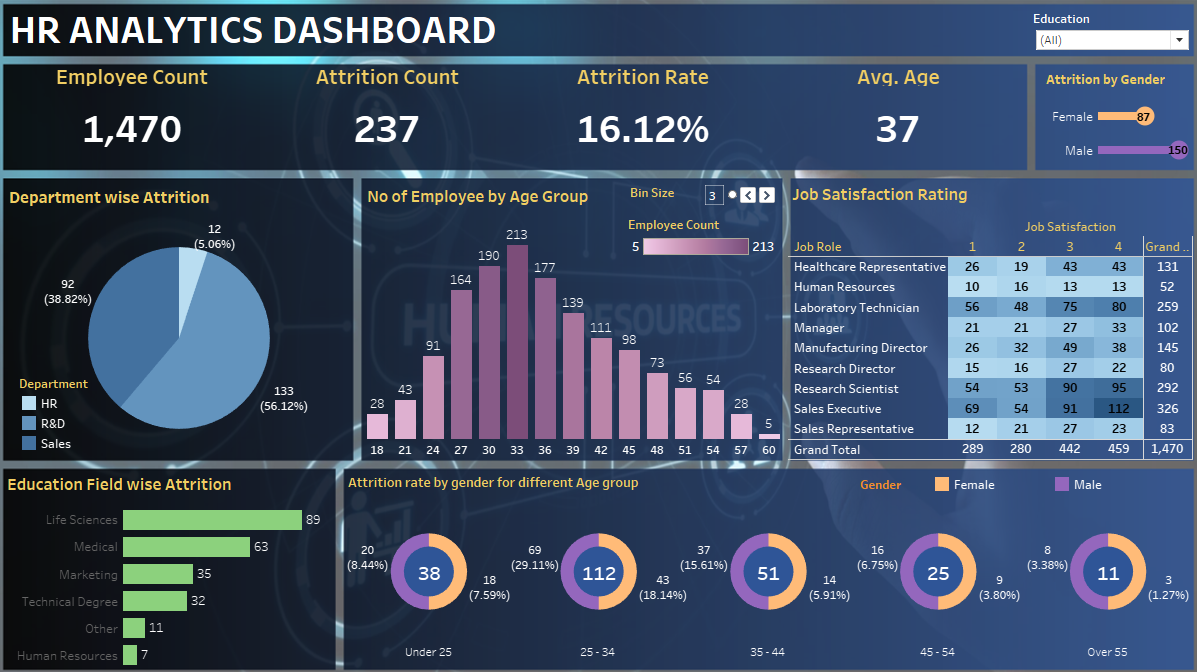

The dashboard page shown, as its layout file describes it:
{"tool":"tableau","page":{"name":"HR ANALYSTICS DASHBAORD","canvas":[1368,700],"ordinal":0},"visuals":[{"type":"image","param":"Image/HR background.pptx.png","box":[8,8,1352,684]},{"type":"text","box":[92,16,1177,49]},{"type":"filter","title":"Department wise Attrition","param":"[federated.00degvc0zf20yi14whbt01yp8zb6].[none:Education:nk]","box":[1118,23,159,42]},{"type":"worksheet","title":"KPI","mark":"Automatic","box":[89,79,1022,101]},{"type":"worksheet","title":"Attrition by Gender","mark":"Automatic","rows":["Gender"],"cols":["Calculation_73183549526663168","Calculation_73183549526663168"],"box":[1103,79,175,101]},{"type":"worksheet","title":"Job Satisfaction Rating","mark":"Square","rows":["Job Role"],"cols":["Job Satisfaction"],"box":[873,192,405,281]},{"type":"worksheet","title":"No of Employee by Age Group","mark":"Automatic","rows":["Employee Count"],"cols":["Age (bin)"],"box":[448,194,420,278]},{"type":"parameter","param":"[Parameters].[Parameter 1]","box":[715,194.8,148,27.4]},{"type":"worksheet","title":"Department wise Attrition","mark":"Pie","box":[90,195,348,275]},{"type":"legend","title":"No of Employee by Age Group","param":"[federated.00degvc0zf20yi14whbt01yp8zb6].[sum:Employee Count:qk]","box":[713,229.3,151,49.7]},{"type":"legend","title":"Department wise Attrition","param":"[federated.00degvc0zf20yi14whbt01yp8zb6].[none:Department:nk]","box":[104,387.5,83,79.1]},{"type":"worksheet","title":"Education Field wise Attrition","mark":"Automatic","rows":["Education Field"],"cols":["Calculation_73183549526663168"],"box":[88,482,331,200]},{"type":"worksheet","title":"Attrition rate by gender for different Age group","mark":"Pie","rows":["Calculation_769271167224381441","Calculation_769271167224381441"],"cols":["CF_age band"],"box":[429,482,849,198]},{"type":"legend","title":"Attrition rate by gender for different Age group","param":"[federated.00degvc0zf20yi14whbt01yp8zb6].[none:Gender:nk]","box":[945,487,321,29.4]}]}

Visuals, with their boxes on the page's 1368x700 design canvas (x1, y1, x2, y2). These are canvas units, not pixel positions in the 1197x672 screenshot, which may show the page scaled, cropped or inside an application window:
image: x1=8, y1=8, x2=1360, y2=692
text: x1=92, y1=16, x2=1269, y2=65
"Department wise Attrition" filter: x1=1118, y1=23, x2=1277, y2=65
"KPI" worksheet: x1=89, y1=79, x2=1111, y2=180
"Attrition by Gender" worksheet: x1=1103, y1=79, x2=1278, y2=180
"Job Satisfaction Rating" worksheet (Square marks): x1=873, y1=192, x2=1278, y2=473
"No of Employee by Age Group" worksheet: x1=448, y1=194, x2=868, y2=472
parameter: x1=715, y1=195, x2=863, y2=222
"Department wise Attrition" worksheet (Pie marks): x1=90, y1=195, x2=438, y2=470
"No of Employee by Age Group" legend: x1=713, y1=229, x2=864, y2=279
"Department wise Attrition" legend: x1=104, y1=388, x2=187, y2=467
"Education Field wise Attrition" worksheet: x1=88, y1=482, x2=419, y2=682
"Attrition rate by gender for different Age group" worksheet (Pie marks): x1=429, y1=482, x2=1278, y2=680
"Attrition rate by gender for different Age group" legend: x1=945, y1=487, x2=1266, y2=516
